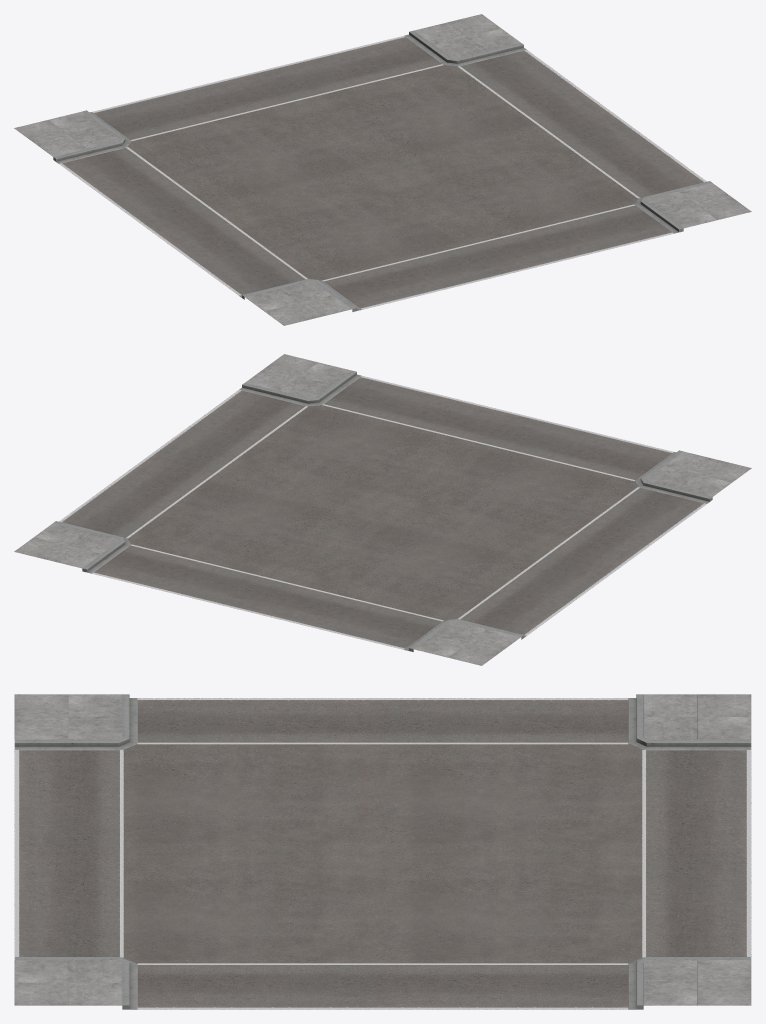
The model's file is Intersection_4x4_lane.fbx.
3 renders of one model, top to bottom at view 1: azimuth 30°, elevation 25°; view 2: azimuth 150°, elevation 25°; view 3: azimuth 270°, elevation 25°, orthographic. The views are drawn at different scales.
Parts seen in each view (by area): view 1: Intersection_4x4_lane; view 2: Intersection_4x4_lane; view 3: Intersection_4x4_lane.
Part boxes in pixels (<box>): Intersection_4x4_lane: <box>14,14,751,325</box>; Intersection_4x4_lane: <box>14,354,751,665</box>; Intersection_4x4_lane: <box>14,694,751,1009</box>.
Size of the model in its own units: 2405 by 15.04 by 2405.
